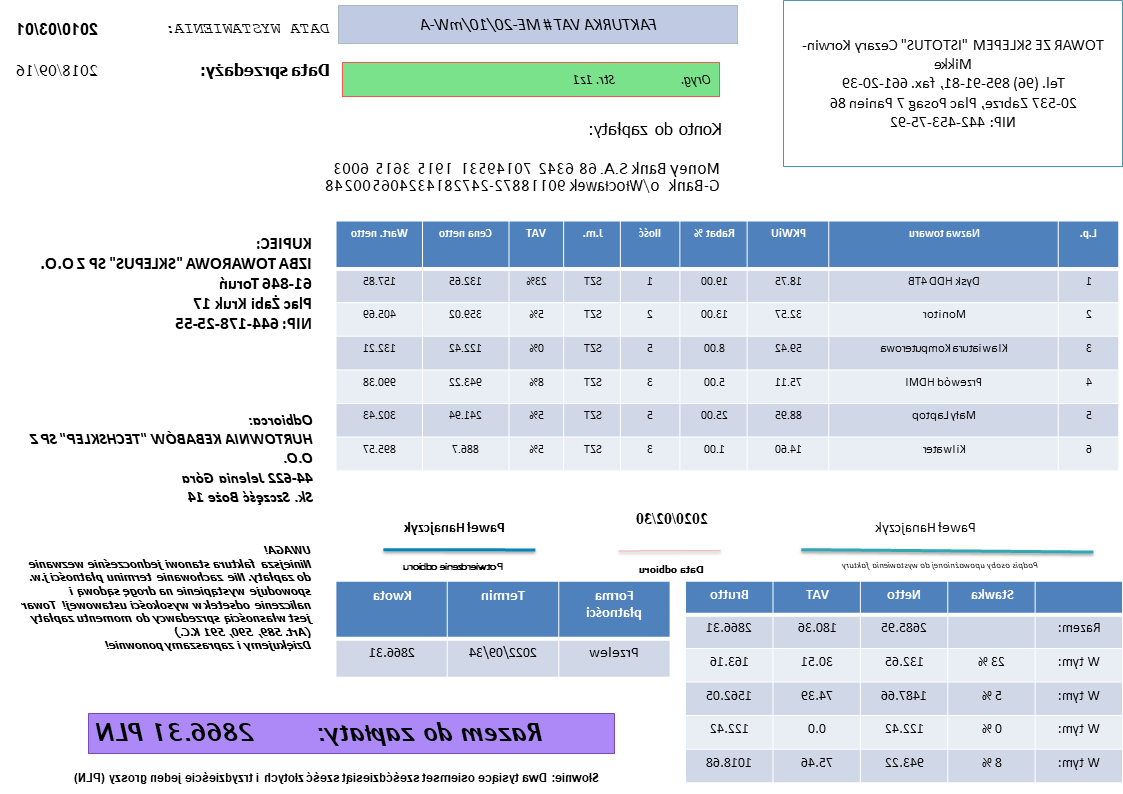Table: (335, 218, 1121, 472), (684, 580, 1122, 784), (335, 580, 671, 678)
TextBox: (16, 541, 313, 654), (801, 37, 1106, 130), (29, 409, 316, 507), (39, 232, 315, 333), (92, 716, 546, 750), (322, 160, 723, 194), (71, 768, 602, 789), (416, 15, 659, 35), (165, 18, 331, 39), (841, 558, 1042, 573), (588, 119, 725, 141), (198, 60, 332, 82), (571, 72, 713, 89), (402, 518, 508, 539), (873, 516, 979, 536), (12, 61, 100, 81), (17, 19, 102, 39), (400, 559, 507, 574), (635, 509, 710, 529), (637, 562, 707, 576)
